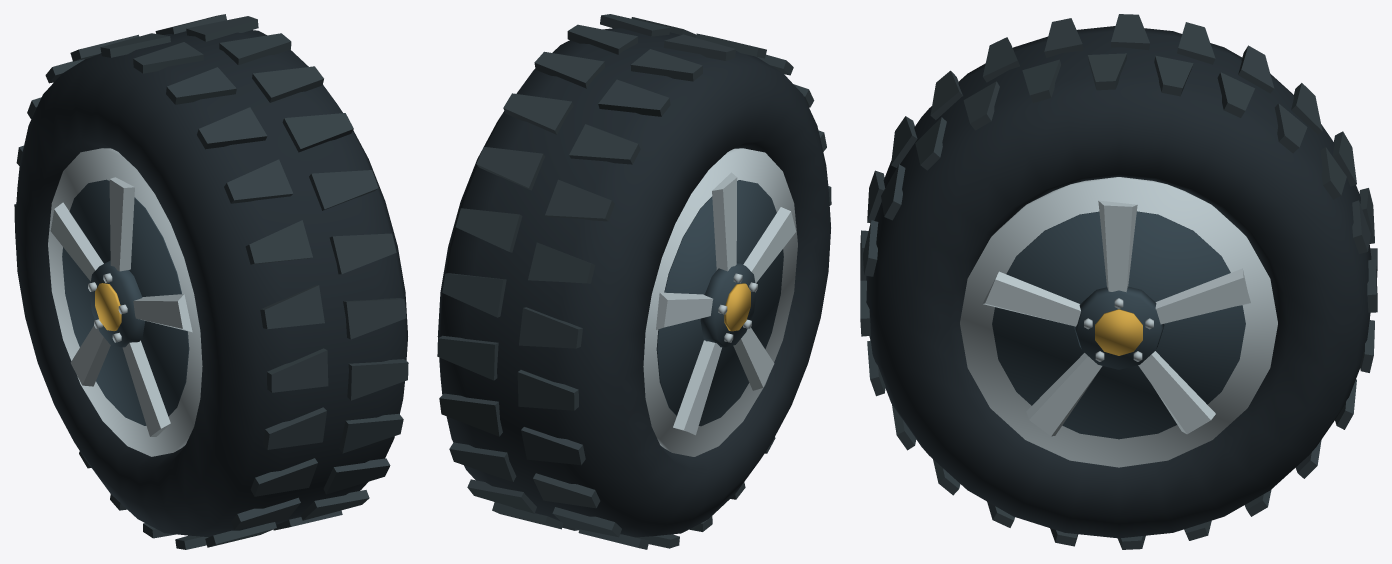
The model's file is VehicleWheel.glb.
3 views of the same model, side by side, from view 1: azimuth 30°, elevation 25°; view 2: azimuth 150°, elevation 25°; view 3: azimuth 270°, elevation 25° (orthographic).
Visible parts, largest first — view 1: VehicleWheel; view 2: VehicleWheel; view 3: VehicleWheel.
Part boxes in pixels (left/top/right/bottom): VehicleWheel: left=14, top=14, right=408, bottom=549; VehicleWheel: left=437, top=14, right=831, bottom=549; VehicleWheel: left=860, top=14, right=1377, bottom=549.
Size of the model in its own units: 0.45 by 0.946 by 0.946.
